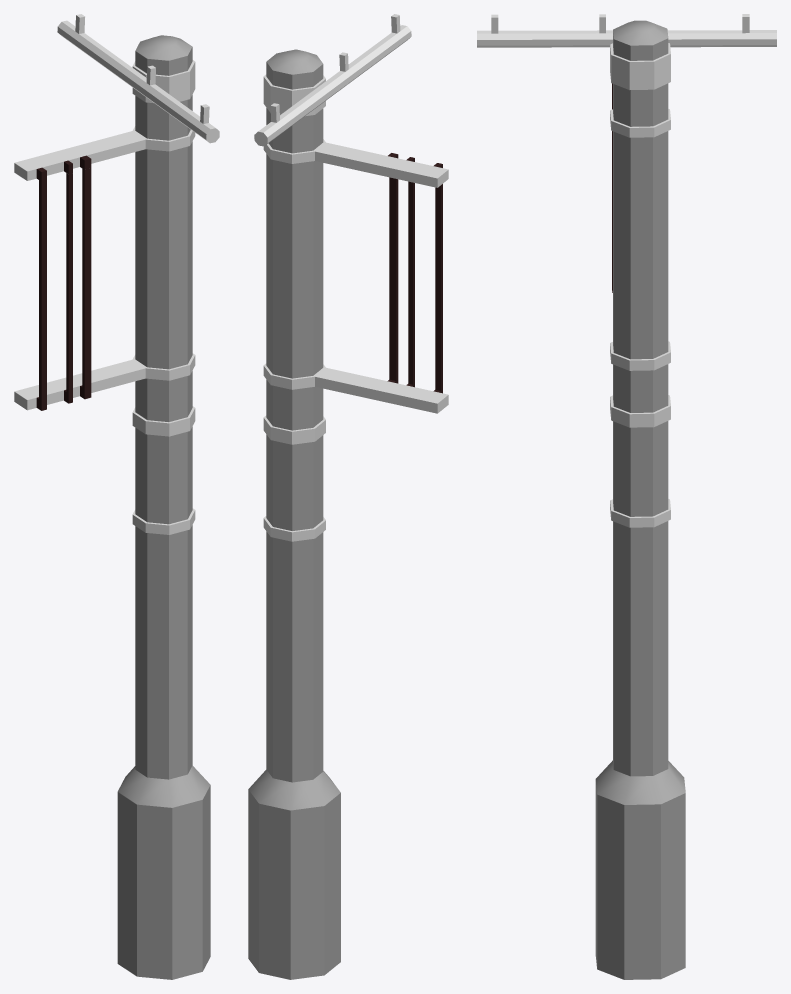
Rendered from PoteauElectrique.fbx.
3 views of the same model, side by side, from view 1: azimuth 30°, elevation 25°; view 2: azimuth 150°, elevation 25°; view 3: azimuth 270°, elevation 25° (orthographic). The views are drawn at different scales.
Parts seen in each view (by area): view 1: pCylinder10, pCylinder11; view 2: pCylinder10, pCylinder11; view 3: pCylinder10, pCylinder11.
Part boxes in pixels (box(x1,y1,x2,y2)): pCylinder10: box(14, 35, 210, 979); pCylinder11: box(57, 14, 219, 143); pCylinder10: box(248, 49, 448, 979); pCylinder11: box(254, 14, 411, 146); pCylinder10: box(595, 20, 685, 979); pCylinder11: box(477, 14, 776, 47).
Size of the model in its own units: 5.65 by 26.67 by 7.76.
